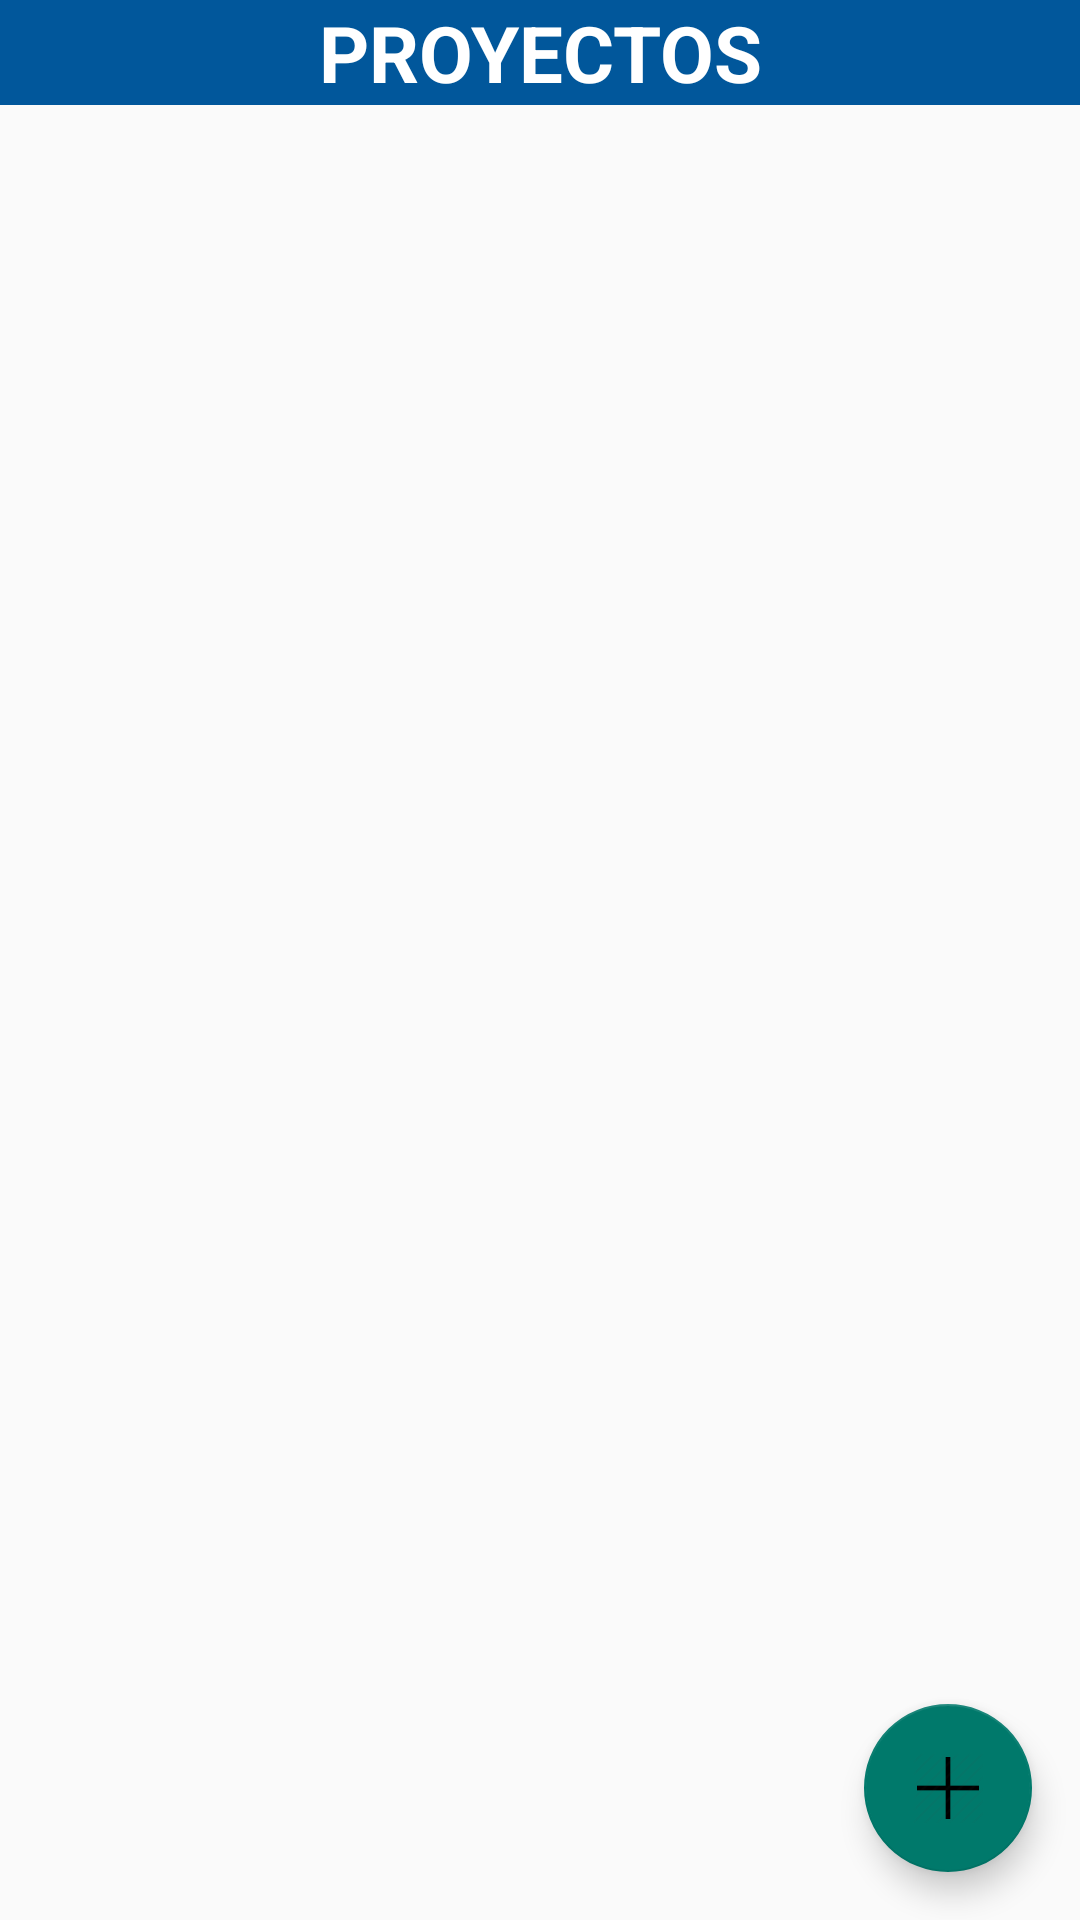

Icons on this 1080w x 1920h Android screen, each with its box as [left=x1, top=y1, right=x2, bottom=y2]:
agregar: [left=864, top=1704, right=1032, bottom=1872]
